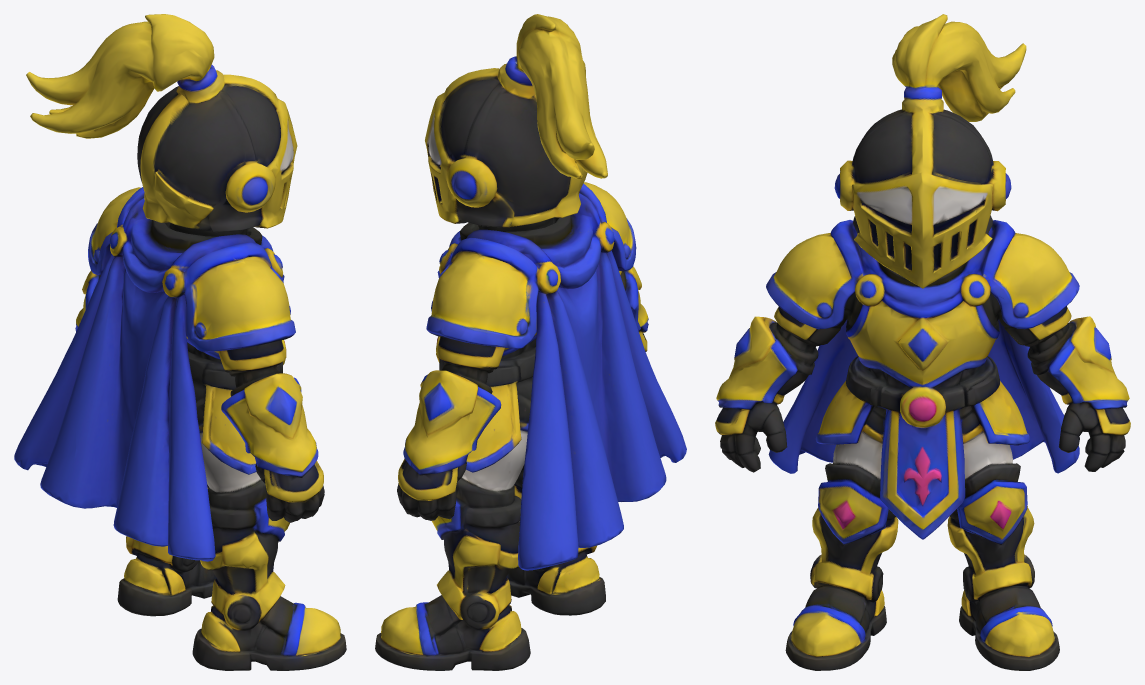
The model's file is knight_tex.glb.
3 views of the same model, side by side, from view 1: azimuth 30°, elevation 25°; view 2: azimuth 150°, elevation 25°; view 3: azimuth 270°, elevation 25° (orthographic). The views are drawn at different scales.
Visible parts, largest first — view 1: tripo_node_902f484a-85b1-4ac1-a12a-5a298fbf2163; view 2: tripo_node_902f484a-85b1-4ac1-a12a-5a298fbf2163; view 3: tripo_node_902f484a-85b1-4ac1-a12a-5a298fbf2163.
Boxes of the visible parts, x1,y1,x2,y2 form: tripo_node_902f484a-85b1-4ac1-a12a-5a298fbf2163: [14, 14, 346, 670]; tripo_node_902f484a-85b1-4ac1-a12a-5a298fbf2163: [375, 14, 686, 670]; tripo_node_902f484a-85b1-4ac1-a12a-5a298fbf2163: [715, 14, 1130, 670].
Size of the model in its own units: 0.3784 by 1 by 0.6321.
1 material, 1 textured.
